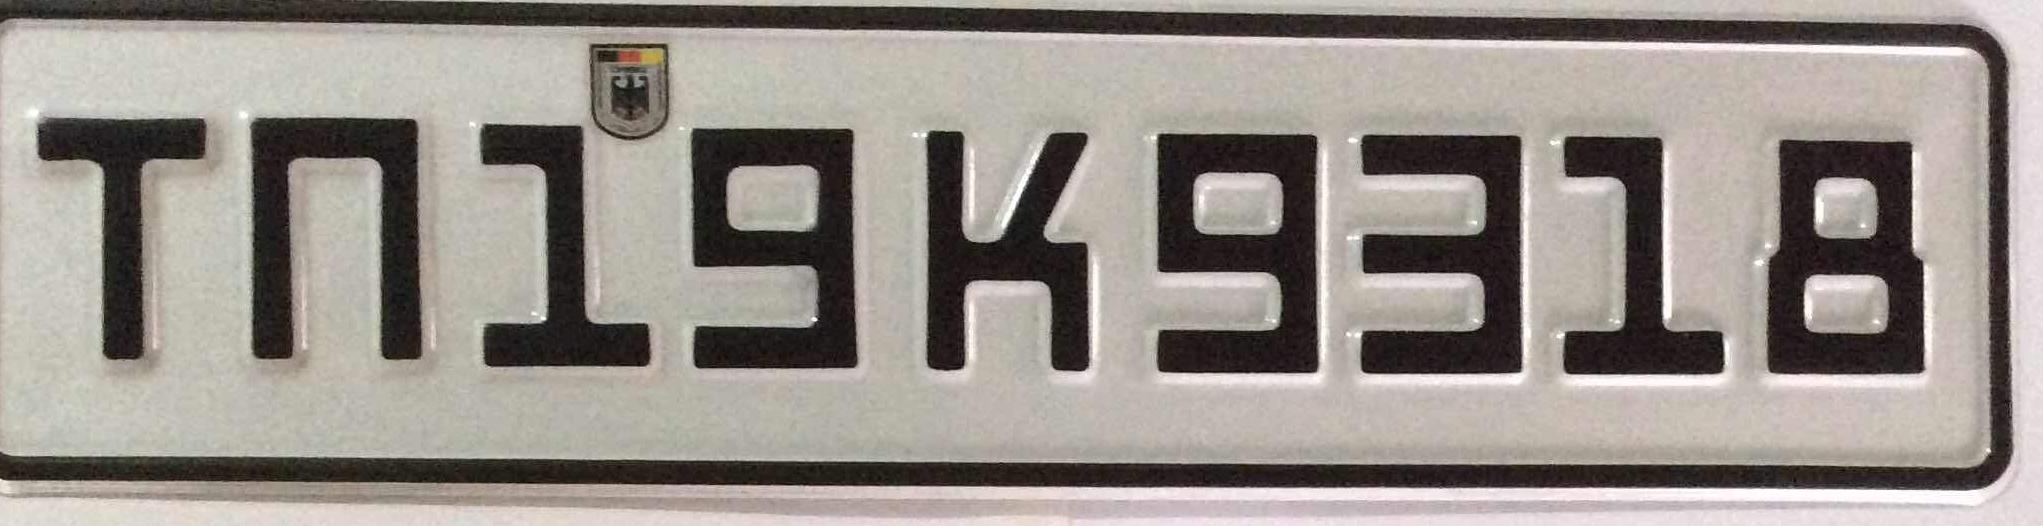1: (471, 117, 656, 372), (1554, 130, 1732, 375)
3: (1355, 129, 1530, 382)
8: (1759, 137, 1943, 382)
9: (682, 120, 875, 374), (1154, 128, 1332, 378)
K: (915, 125, 1102, 374)
N: (246, 113, 427, 367)
T: (30, 105, 218, 364)
